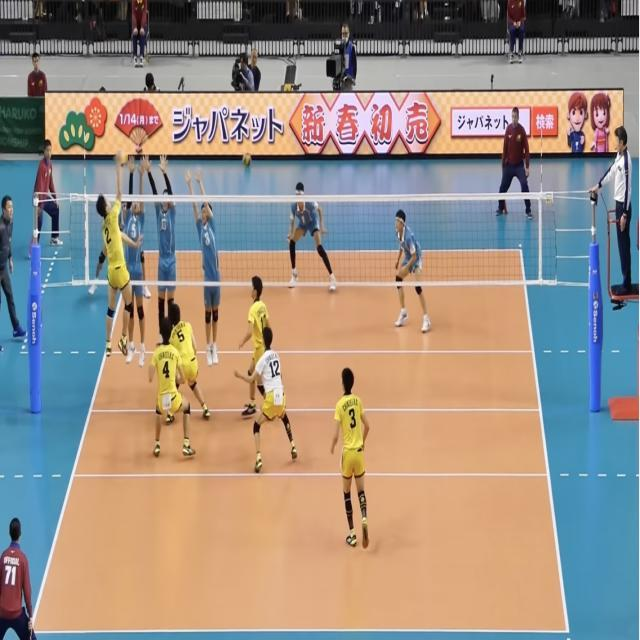spike: (95, 148, 137, 364)
